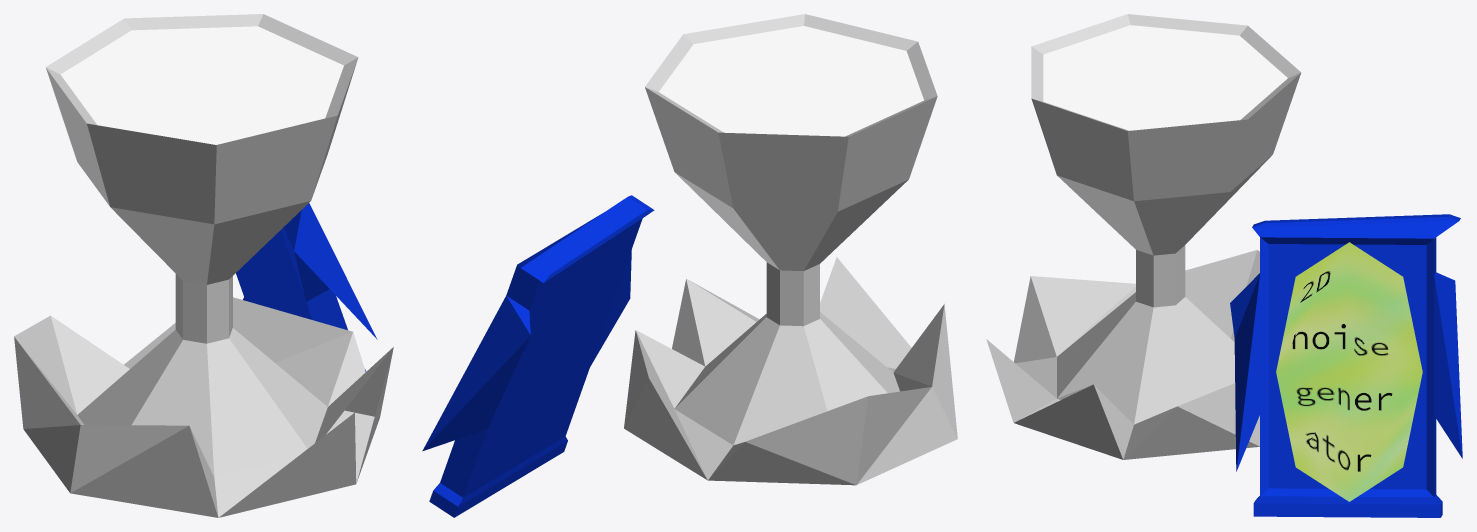
The model's file is noisegenerator.glb.
The picture shows the model from 3 angles, left to right: view 1: azimuth 30°, elevation 25°; view 2: azimuth 150°, elevation 25°; view 3: azimuth 270°, elevation 25°; orthographic projection. The views are drawn at different scales.
Parts seen in each view (by area): view 1: Circle, Cube; view 2: Circle, Cube; view 3: Circle, Cube, Empty.001.
Part boxes in pixels (x1,y1,x2,y2): Circle: (14,14,393,517); Cube: (236,203,377,371); Circle: (624,14,957,485); Cube: (422,195,654,517); Circle: (986,14,1301,459); Cube: (1230,214,1462,517); Empty.001: (1276,242,1422,501).
Bounding box in the file's own units: 3.45 × 3.48 × 4.19.
Materials: 4 (1 with a texture image).
